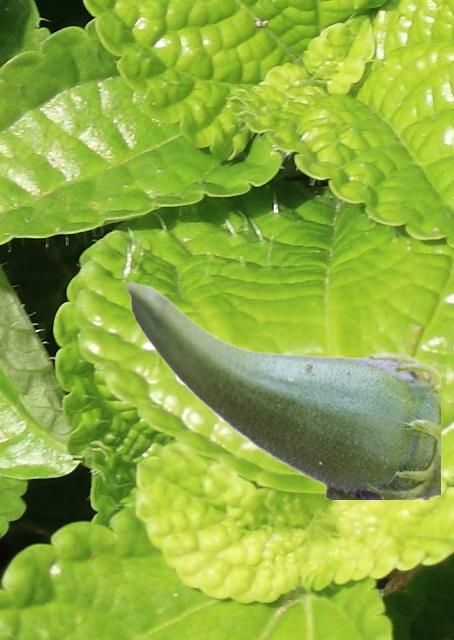okra: (124, 281, 439, 498)
